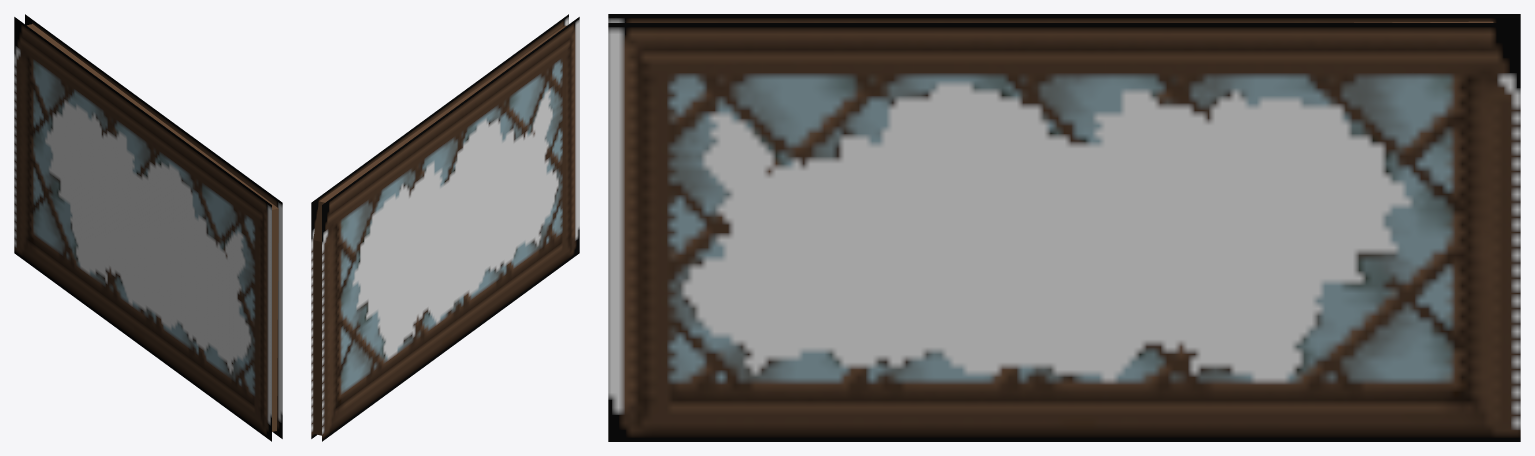
File: pz_native_fixtures_windows_church_74_frame.obj
3 renders of one model, left to right at view 1: azimuth 30°, elevation 25°; view 2: azimuth 150°, elevation 25°; view 3: azimuth 270°, elevation 25°, orthographic. The views are drawn at different scales.
Visible parts, largest first — view 1: pz_native_fixtures_windows_church_74_frame; view 2: pz_native_fixtures_windows_church_74_frame; view 3: pz_native_fixtures_windows_church_74_frame.
Boxes of the visible parts, box(x1,y1,x2,y2) form: pz_native_fixtures_windows_church_74_frame: box(14, 14, 282, 441); pz_native_fixtures_windows_church_74_frame: box(311, 14, 579, 441); pz_native_fixtures_windows_church_74_frame: box(608, 14, 1520, 441).
Bounding box in the file's own units: 0.04 × 0.8594 × 1.7.
Materials: 1 (1 with a texture image).
